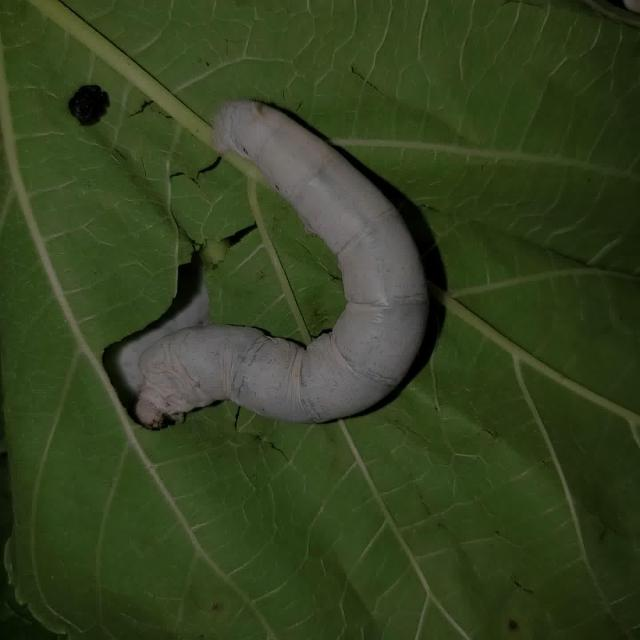Healthy: (116, 67, 476, 520)
